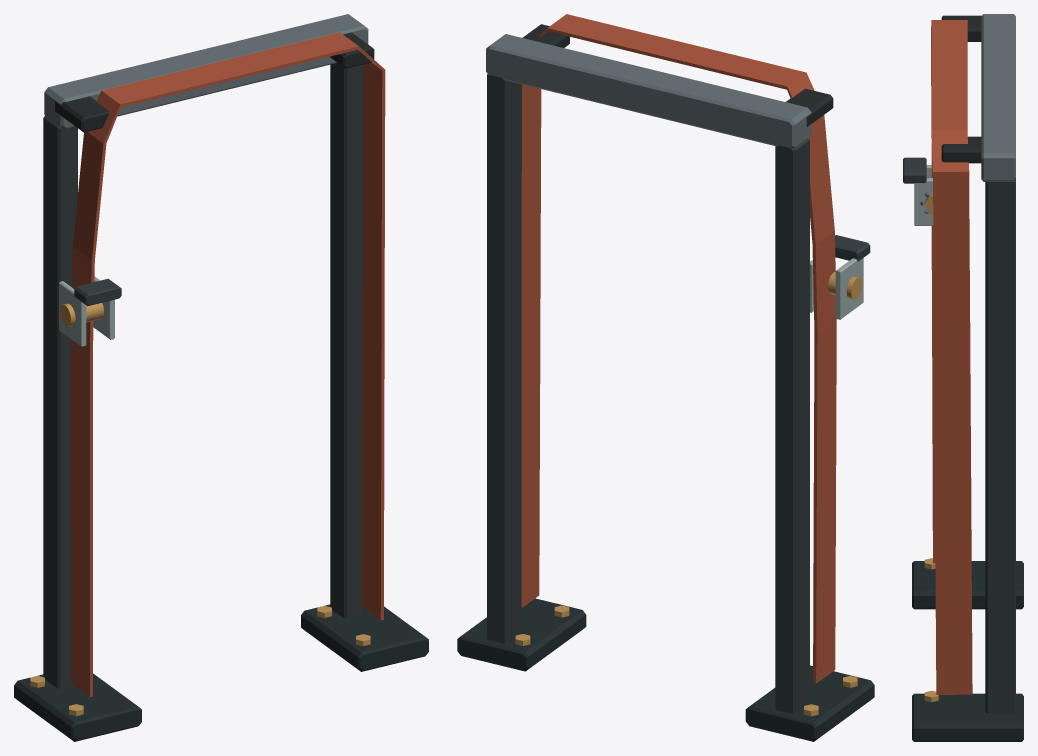
Rendered from strap-working.glb.
3 renders of one model, left to right at view 1: azimuth 30°, elevation 25°; view 2: azimuth 150°, elevation 25°; view 3: azimuth 270°, elevation 25°, orthographic. The views are drawn at different scales.
Parts seen in each view (by area): view 1: RB_strap_working; view 2: RB_strap_working; view 3: RB_strap_working.
Boxes of the visible parts, x1,y1,x2,y2 form: RB_strap_working: (14, 14, 428, 741); RB_strap_working: (457, 14, 874, 741); RB_strap_working: (903, 14, 1023, 741).
Bounding box in the file's own units: 0.93 × 1.53 × 0.287.
